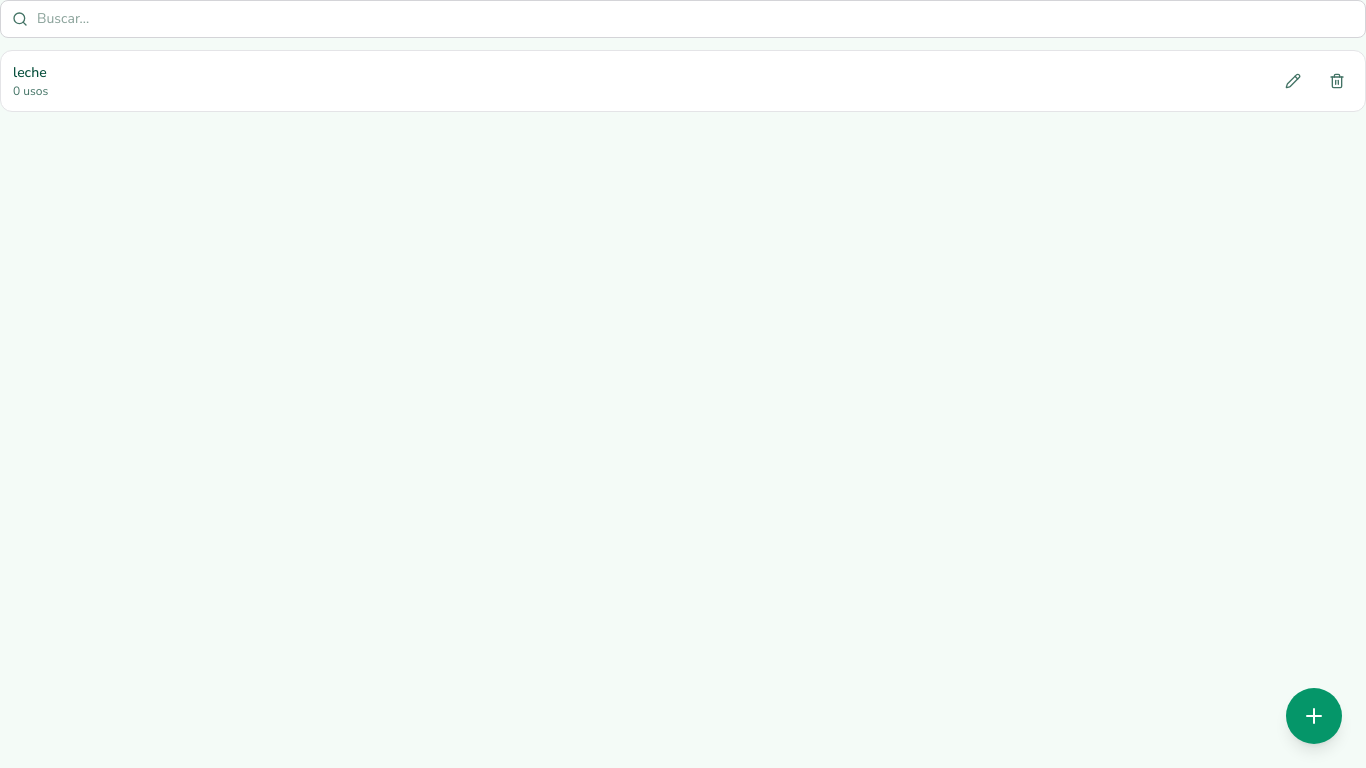
Test case: PantryEditor › edita un producto existente
The width and height of the screenshot is (1366, 768).
Click the button named "Editar leche" at (1293, 81), box [1277,65,1309,97]
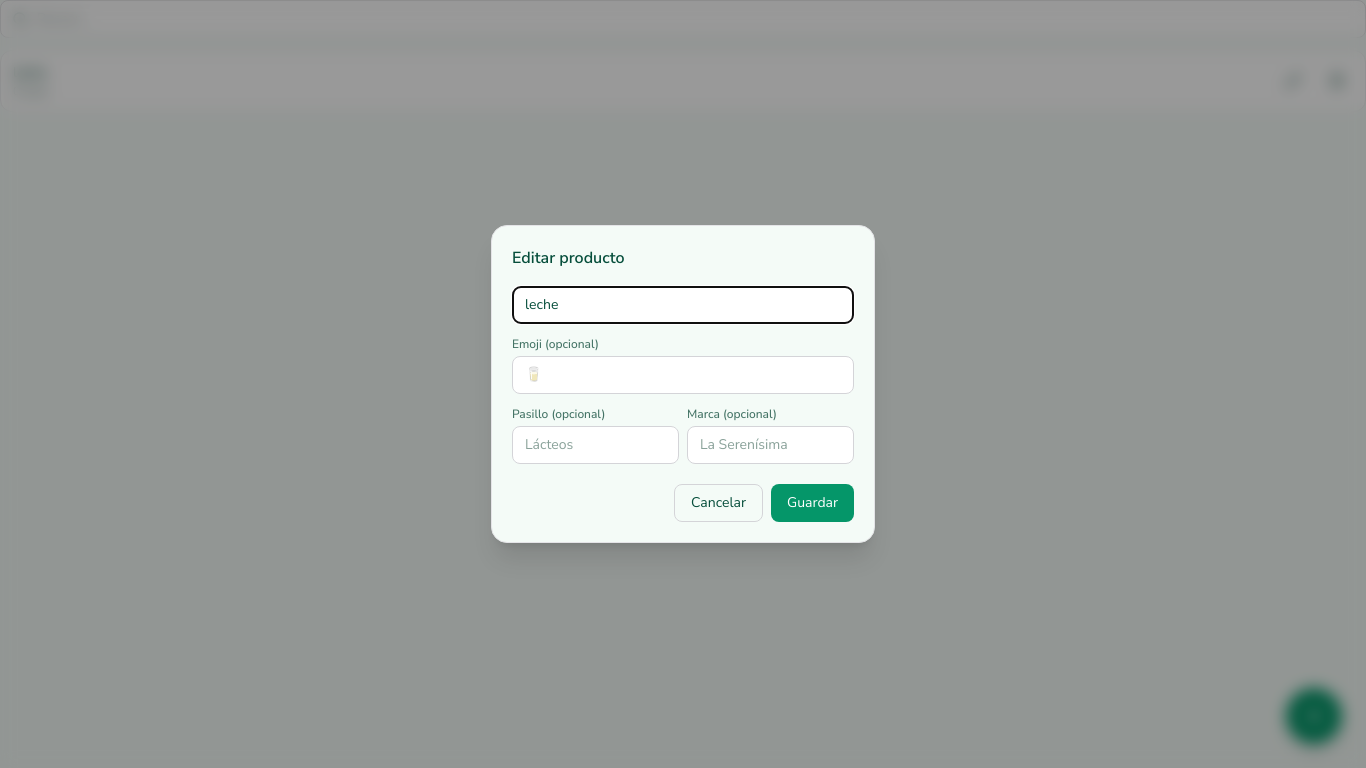
Replace the text in the field named "Nombre" with "Leche entera" at (683, 305), box [512,286,854,324]
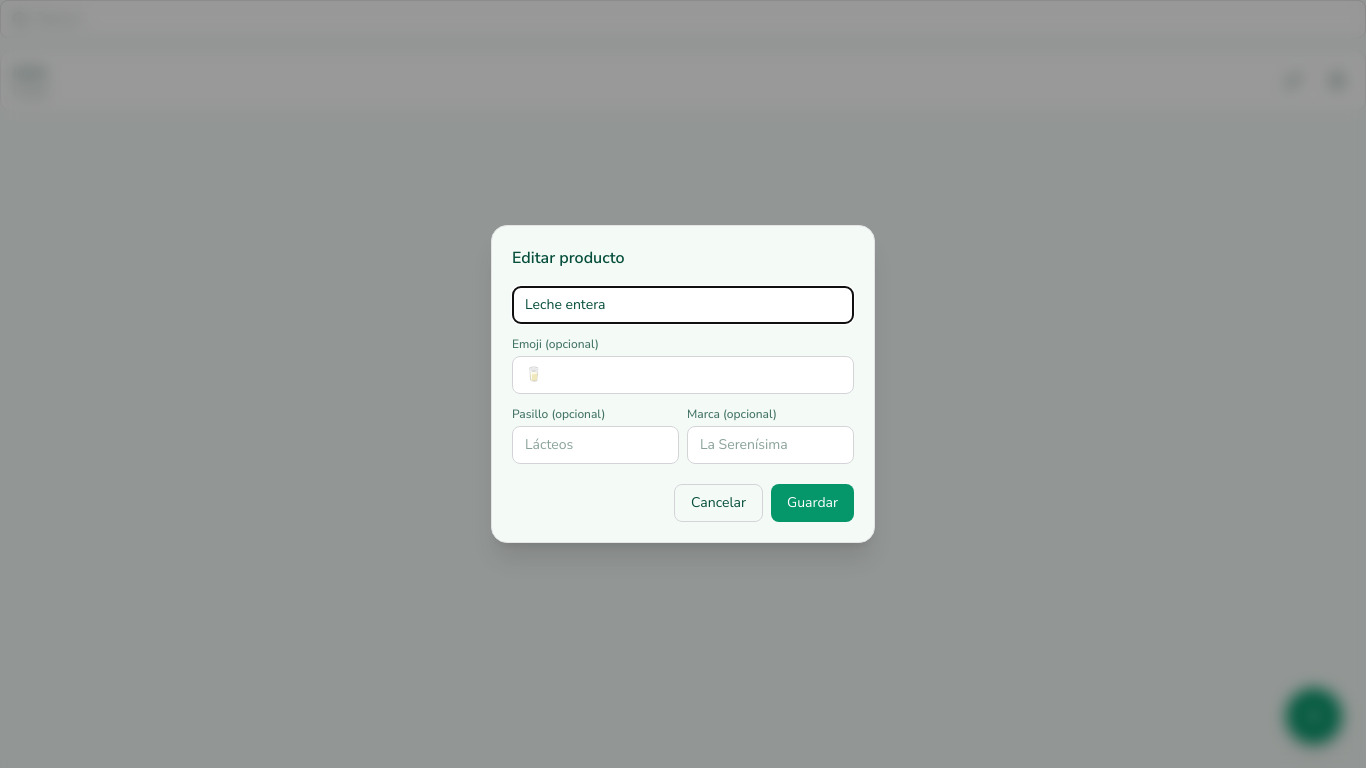
Click the button "Guardar" at (812, 503), box [771,484,854,522]
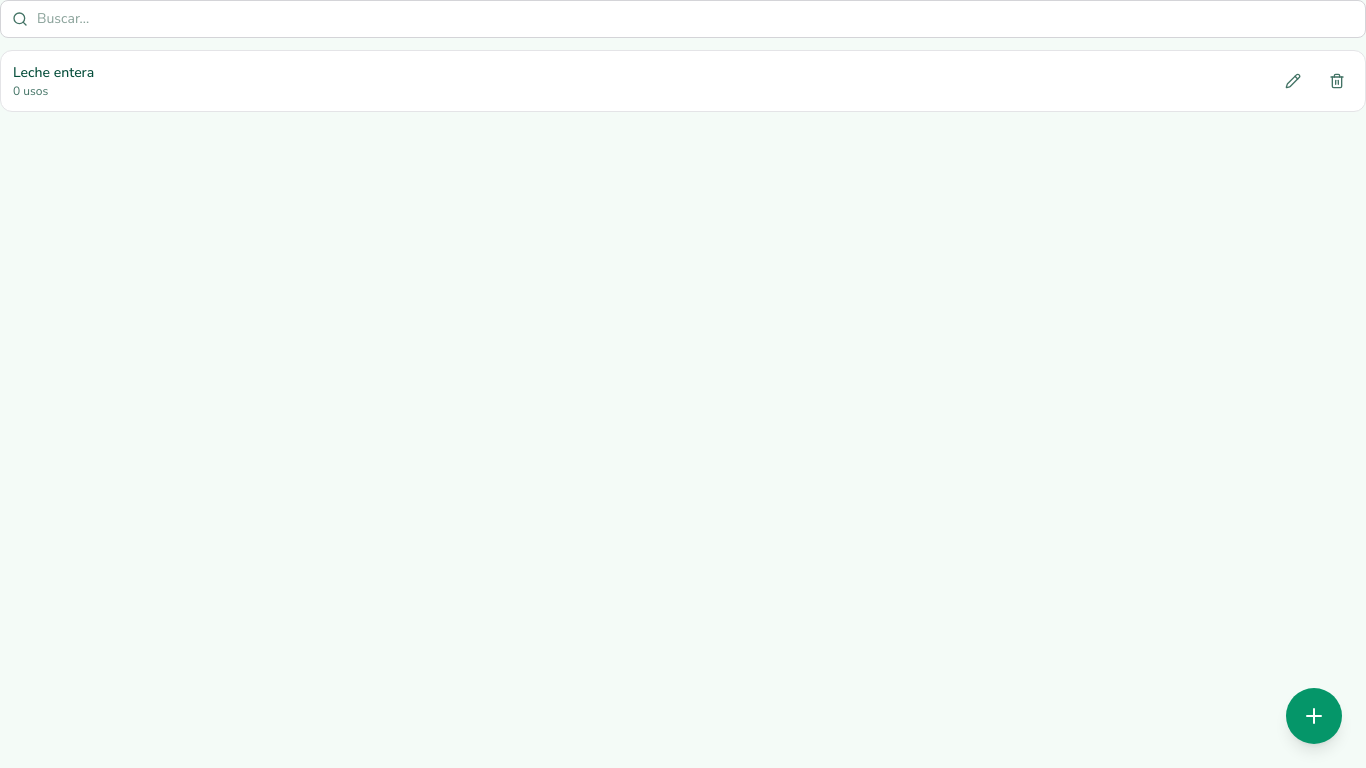
Expected: the text "Leche entera" is shown, [13,63,94,82]
